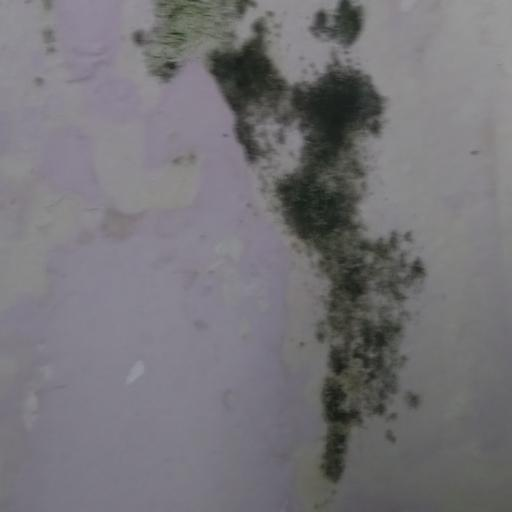algae: (134, 0, 456, 506)
